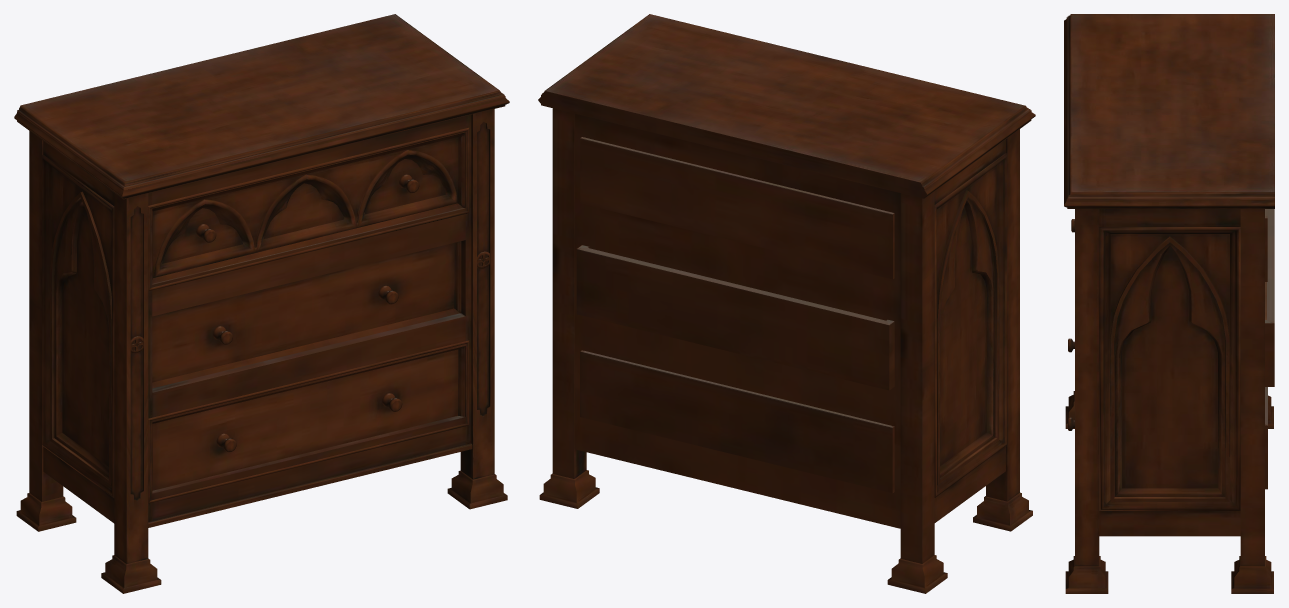
The model's file is commode.glb.
3 views of the same model, side by side, from view 1: azimuth 30°, elevation 25°; view 2: azimuth 150°, elevation 25°; view 3: azimuth 270°, elevation 25° (orthographic). The views are drawn at different scales.
Visible parts, largest first — view 1: GothicCommode_01, GothicCommode_01_door01, GothicCommode_01_door03, GothicCommode_01_door02; view 2: GothicCommode_01, GothicCommode_01_door02, GothicCommode_01_door03, GothicCommode_01_door01; view 3: GothicCommode_01, GothicCommode_01_door02, GothicCommode_01_door03.
Boxes of the visible parts, bbox=[...] form: GothicCommode_01: bbox=[14, 14, 509, 593]; GothicCommode_01_door01: bbox=[148, 127, 469, 291]; GothicCommode_01_door03: bbox=[148, 340, 469, 503]; GothicCommode_01_door02: bbox=[152, 241, 461, 388]; GothicCommode_01: bbox=[538, 14, 1035, 593]; GothicCommode_01_door02: bbox=[576, 245, 894, 390]; GothicCommode_01_door03: bbox=[580, 350, 894, 493]; GothicCommode_01_door01: bbox=[580, 137, 894, 279]; GothicCommode_01: bbox=[1064, 14, 1274, 593]; GothicCommode_01_door02: bbox=[1265, 209, 1274, 386]; GothicCommode_01_door03: bbox=[1068, 338, 1267, 489].
Bounding box in the file's own units: 1.2 × 1.21 × 0.5806.
Materials: 1 (1 with a texture image).
